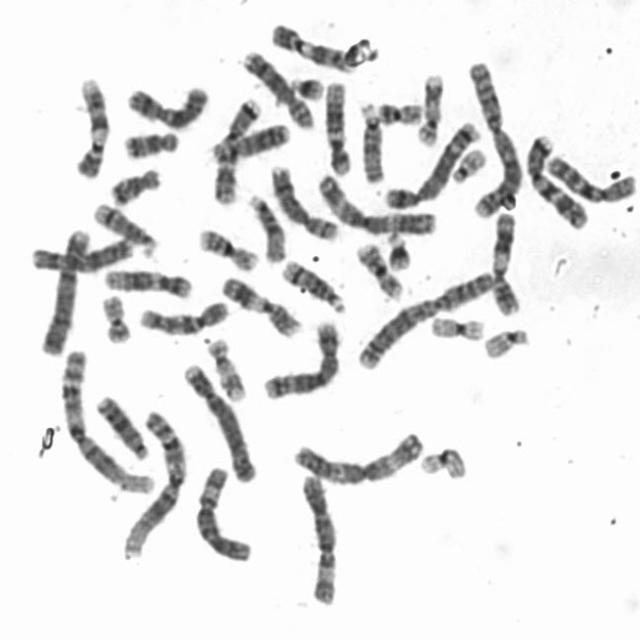A1: (53, 342, 157, 496), (114, 402, 190, 561)
A2: (351, 263, 497, 372), (460, 52, 524, 218)
A3: (310, 165, 440, 235), (286, 424, 428, 486)
B4: (176, 354, 259, 486), (32, 220, 94, 358)
B5: (377, 113, 485, 211), (256, 314, 344, 402)
C10: (540, 145, 639, 206), (131, 292, 231, 337)
C11: (216, 268, 305, 339), (484, 205, 523, 317)
C12: (96, 260, 195, 300), (318, 74, 354, 177)
C6: (189, 459, 255, 564), (294, 466, 342, 607)
C7: (519, 125, 592, 230), (206, 90, 264, 207)
C8: (235, 42, 316, 130), (263, 156, 342, 242)
C9: (264, 14, 355, 74), (68, 68, 111, 180)
D13: (88, 387, 150, 462), (205, 116, 292, 162)
D14: (86, 195, 160, 259), (274, 251, 348, 315)
D15: (241, 186, 288, 264), (352, 94, 387, 185)
E16: (350, 235, 406, 300), (191, 220, 261, 272)
E17: (200, 330, 248, 403), (410, 64, 446, 148)
E18: (104, 160, 164, 207), (116, 122, 181, 161)
F19: (423, 306, 488, 343), (412, 440, 468, 480)
F20: (94, 286, 133, 344), (370, 93, 426, 126)
G21: (379, 222, 415, 272), (283, 67, 326, 101)
G22: (476, 320, 532, 360), (444, 140, 489, 186)
X: (119, 77, 211, 131), (24, 230, 136, 274)
